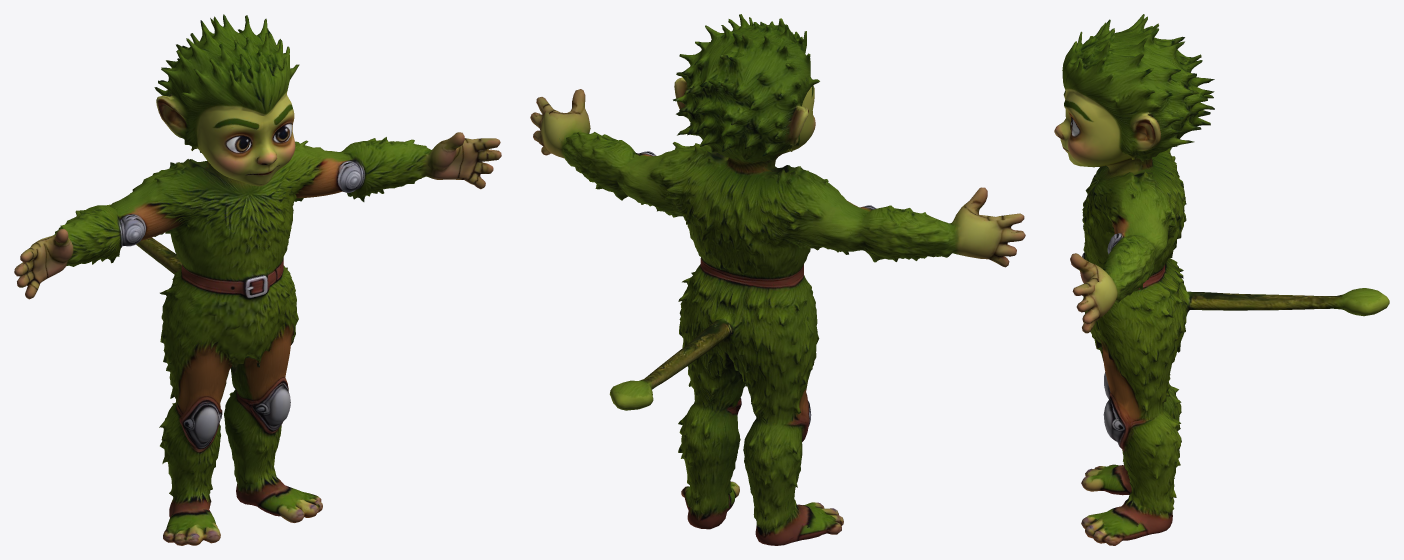
Rendered from moss_covered_dryad_android_orig.glb.
3 renders of one model, left to right at view 1: azimuth 30°, elevation 25°; view 2: azimuth 150°, elevation 25°; view 3: azimuth 270°, elevation 25°, orthographic. The views are drawn at different scales.
Parts seen in each view (by area): view 1: world; view 2: world; view 3: world.
Boxes of the visible parts, bbox=[...] form: world: bbox=[14, 14, 501, 545]; world: bbox=[530, 14, 1025, 545]; world: bbox=[1054, 14, 1389, 545].
Size of the model in its own units: 2 by 1.94 by 1.21.
Materials: 1 (1 with a texture image).
